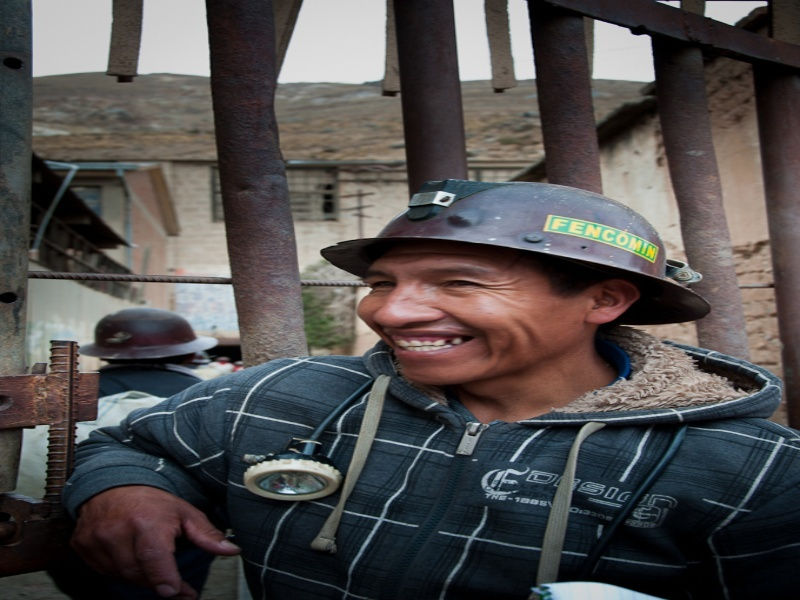Baret: (348, 171, 709, 301), (92, 303, 223, 358)
